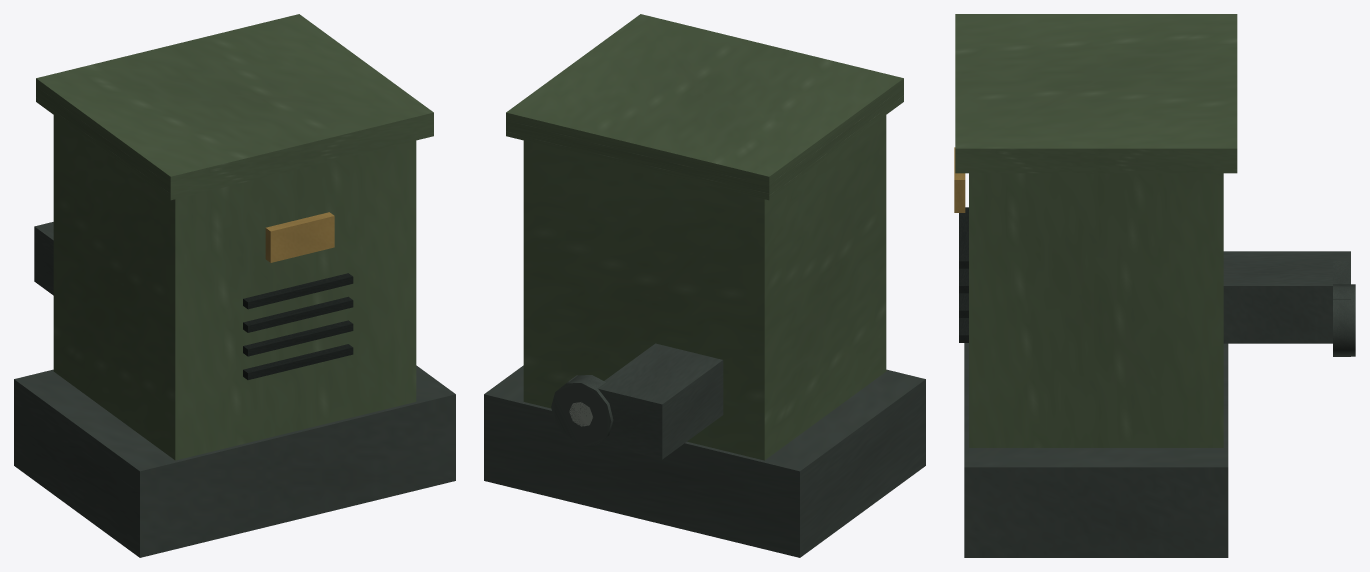
The model's file is SG_Drive.glb.
3 views of the same model, side by side, from view 1: azimuth 30°, elevation 25°; view 2: azimuth 150°, elevation 25°; view 3: azimuth 270°, elevation 25° (orthographic). The views are drawn at different scales.
Visible parts, largest first — view 1: SG_Drive; view 2: SG_Drive; view 3: SG_Drive.
Part boxes in pixels (box(x1,y1,x2,y2)): SG_Drive: box(14, 14, 455, 557); SG_Drive: box(484, 14, 925, 557); SG_Drive: box(954, 14, 1355, 557).
Size of the model in its own units: 0.42 by 0.48 by 0.441.
1 material, 1 textured.
